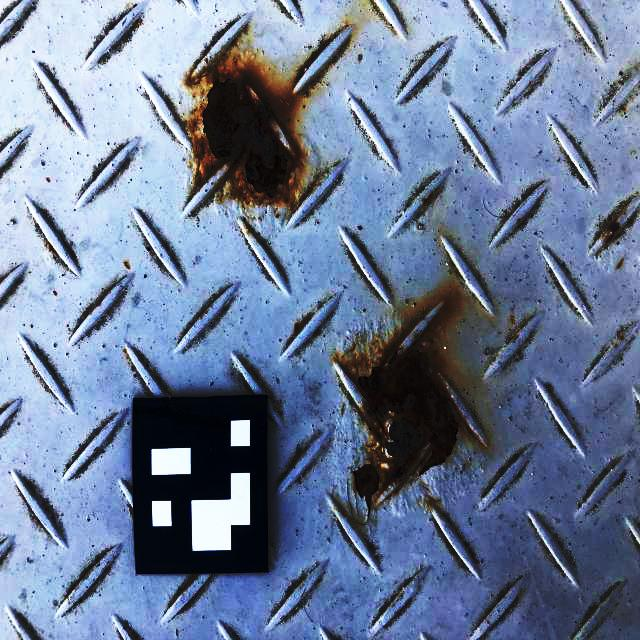Corrosion: (353, 308, 477, 512), (187, 53, 304, 208), (609, 221, 622, 242)
